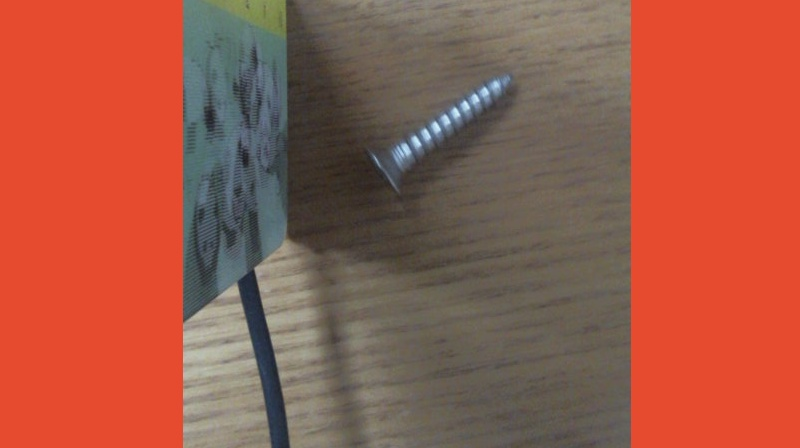S001: (358, 67, 517, 199)
